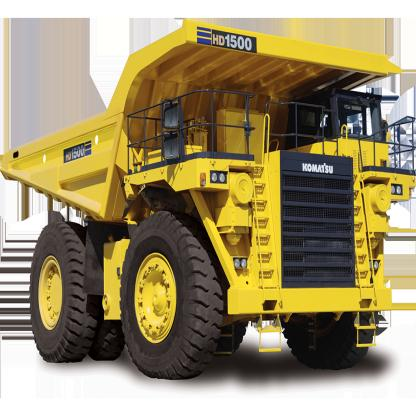dump_truck: (1, 16, 414, 379)
